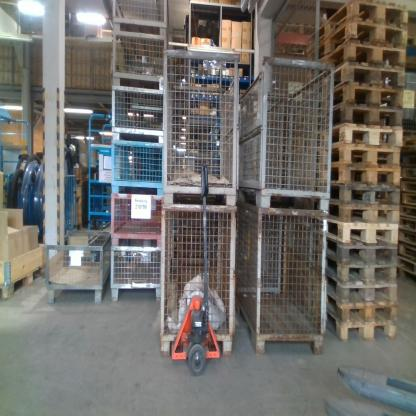pallet: (307, 5, 406, 53), (309, 24, 408, 55), (330, 40, 406, 71), (0, 261, 47, 303), (334, 85, 404, 110), (335, 66, 405, 89), (334, 107, 403, 129), (327, 248, 398, 269), (334, 129, 404, 150), (332, 169, 402, 190), (332, 151, 403, 171), (328, 227, 399, 247), (330, 191, 400, 211), (327, 287, 398, 306), (327, 267, 397, 286), (328, 306, 397, 323), (328, 323, 396, 340), (328, 211, 400, 225), (399, 271, 416, 285), (400, 256, 415, 267)
pallet_truck: (171, 163, 225, 375)
stillage: (240, 51, 332, 211), (236, 198, 327, 359), (160, 42, 241, 208), (158, 200, 240, 359), (44, 229, 113, 309), (109, 30, 167, 90), (110, 139, 165, 196), (110, 84, 168, 137), (108, 247, 164, 300), (108, 196, 165, 246), (111, 2, 169, 36)
